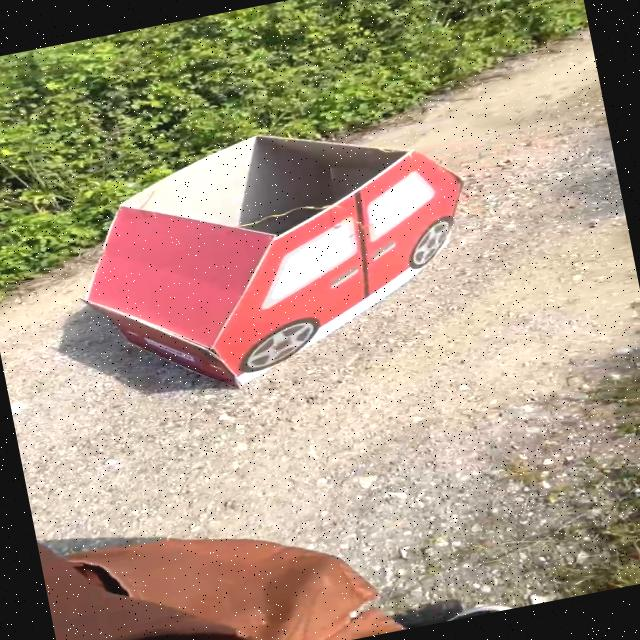red_car: (35, 73, 534, 448)
